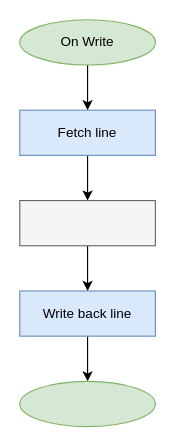
Image size: 175x446. Some labels were removed from this diagram. The centre of each missing label's shape, as x and y in pixels:
"Return" belongs at point 87,403.
"Update tag bits" belongs at point 87,222.
